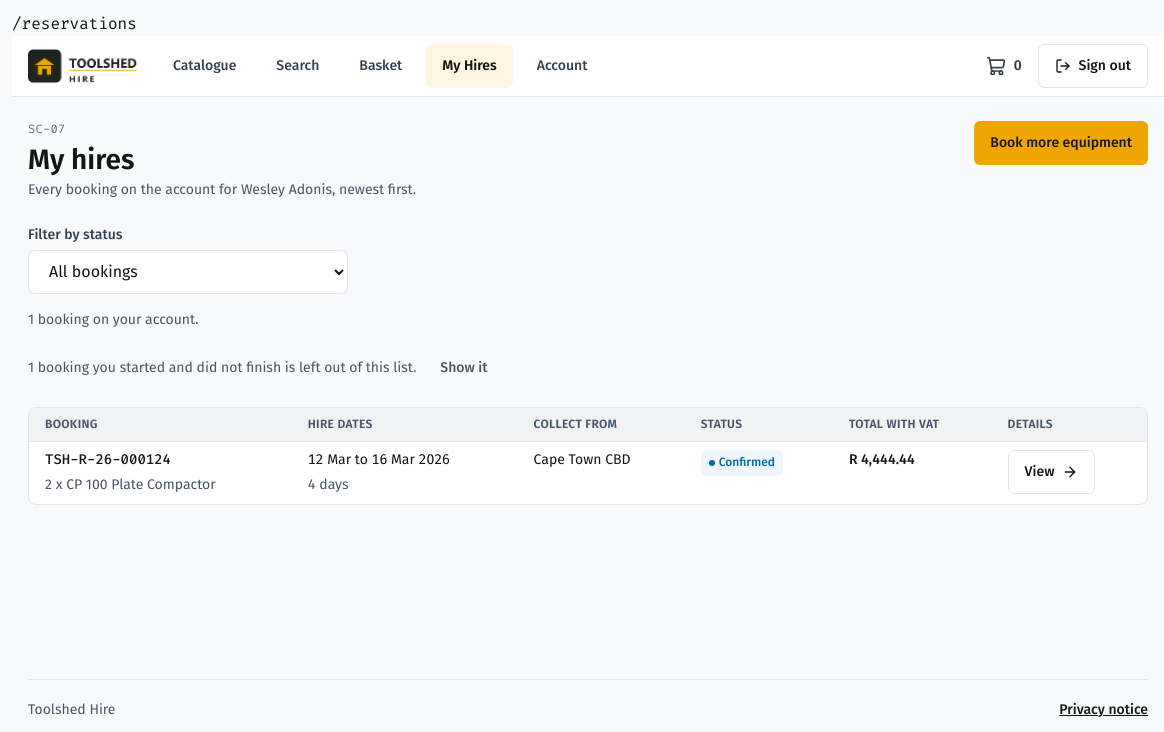
Test case: bookings that were not finished › are counted with the smallest page there is, and only when no status is chosen
Expected: the text "TSH-R-26-000124" is shown, [45,450,171,469]
Select "Confirmed" in the dropdown labelled "Filter by status": [188, 272] box [28,250,348,294]
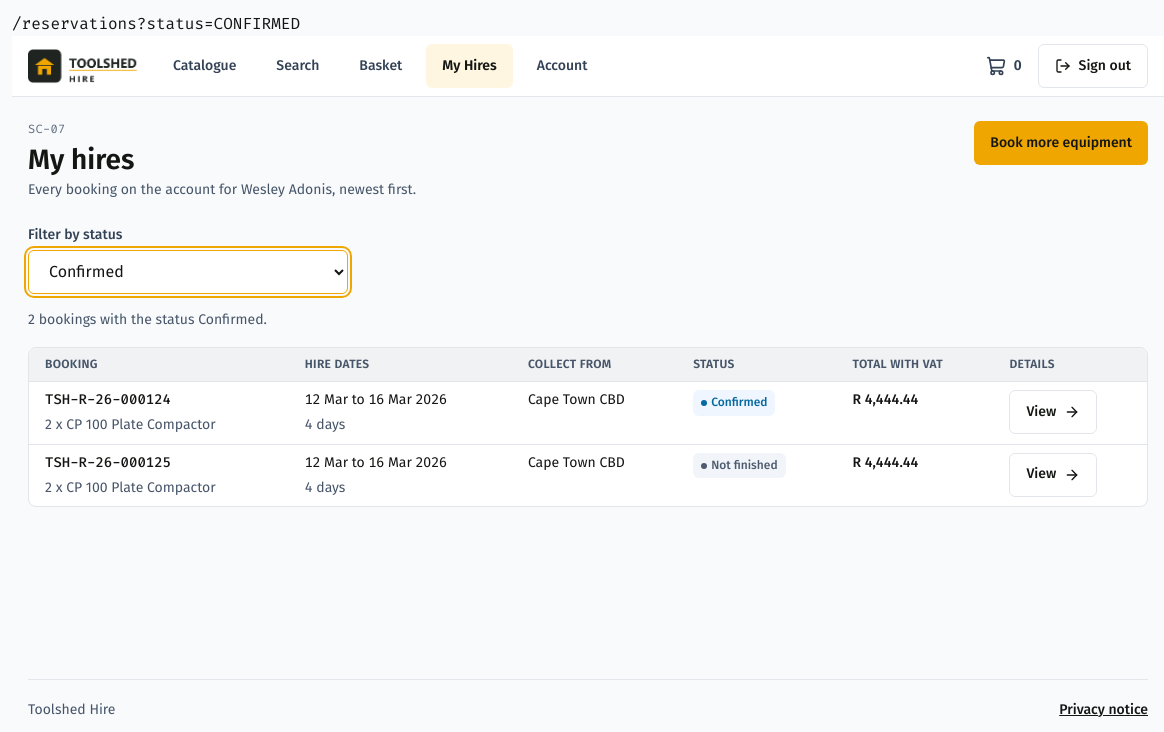
Expected: the text "1 booking you started and did not finish is left out of this list." is gone
